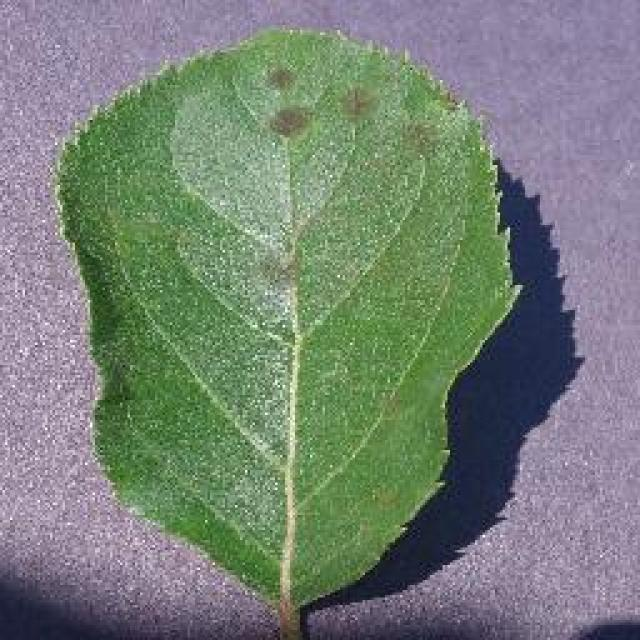apple scab disease: (50, 22, 522, 638)
